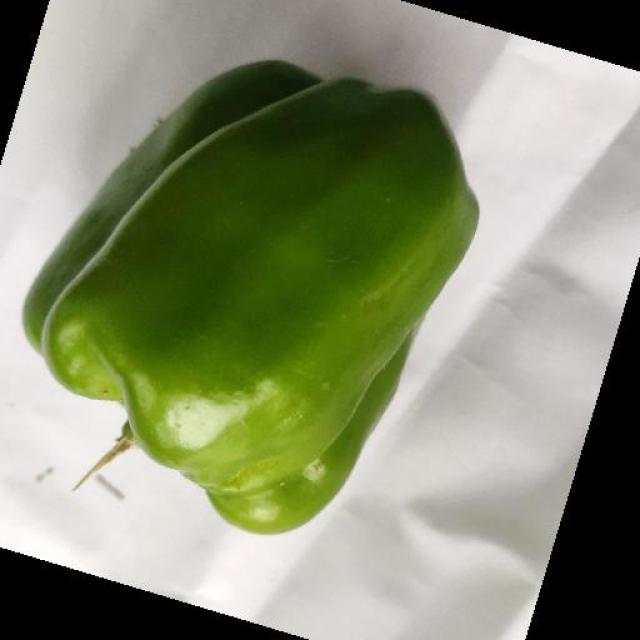Fresh_Capsicum: (55, 74, 466, 498)
